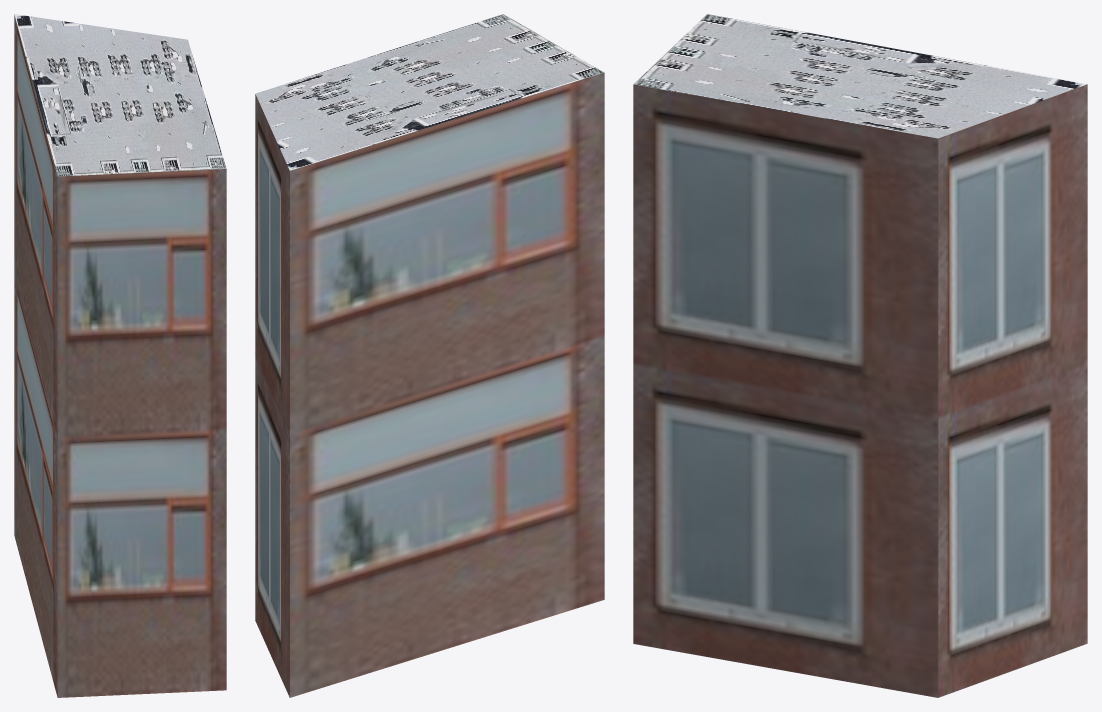
The model's file is ResTex__5023.fbx.
3 renders of one model, left to right at view 1: azimuth 30°, elevation 25°; view 2: azimuth 150°, elevation 25°; view 3: azimuth 270°, elevation 25°, orthographic. The views are drawn at different scales.
Parts seen in each view (by area): view 1: CityEngineMaterial_19_m, CityEngineMaterial_15_m; view 2: CityEngineMaterial_19_m, CityEngineMaterial_15_m; view 3: CityEngineMaterial_19_m, CityEngineMaterial_15_m.
Boxes of the visible parts, x1=… form: CityEngineMaterial_19_m: x1=14, y1=15, x2=226, y2=697; CityEngineMaterial_15_m: x1=14, y1=14, x2=226, y2=176; CityEngineMaterial_19_m: x1=255, y1=73, x2=604, y2=697; CityEngineMaterial_15_m: x1=255, y1=14, x2=604, y2=170; CityEngineMaterial_19_m: x1=633, y1=84, x2=1087, y2=697; CityEngineMaterial_15_m: x1=633, y1=14, x2=1087, y2=138.
Size of the model in its own units: 2.87 by 6 by 4.42.
Materials: 2 (2 with a texture image).
